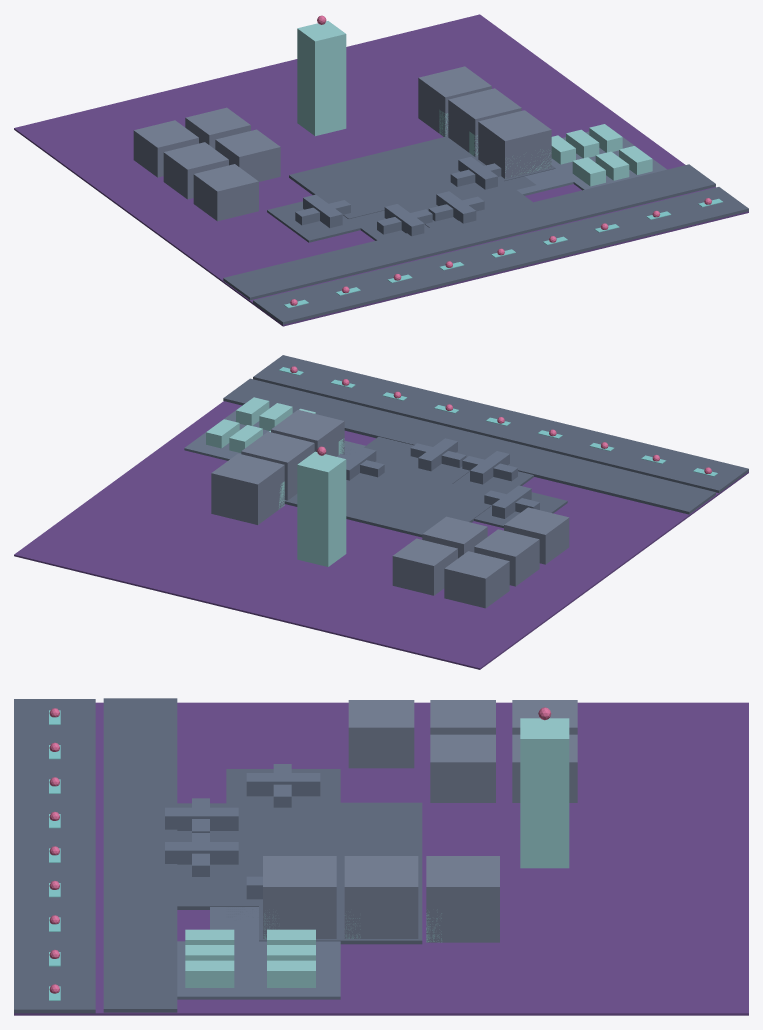
The model's file is stage_21.glb.
3 views of the same model, one above another, from view 1: azimuth 30°, elevation 25°; view 2: azimuth 150°, elevation 25°; view 3: azimuth 270°, elevation 25° (orthographic). The views are drawn at different scales.
Visible parts, largest first — view 1: geometry_0; view 2: geometry_0; view 3: geometry_0.
Boxes of the visible parts, x1,y1,x2,y2 form: geometry_0: (14,14,748,326); geometry_0: (14,355,748,669); geometry_0: (14,698,748,1015).
Bounding box in the file's own units: 9 × 2.06 × 9.
